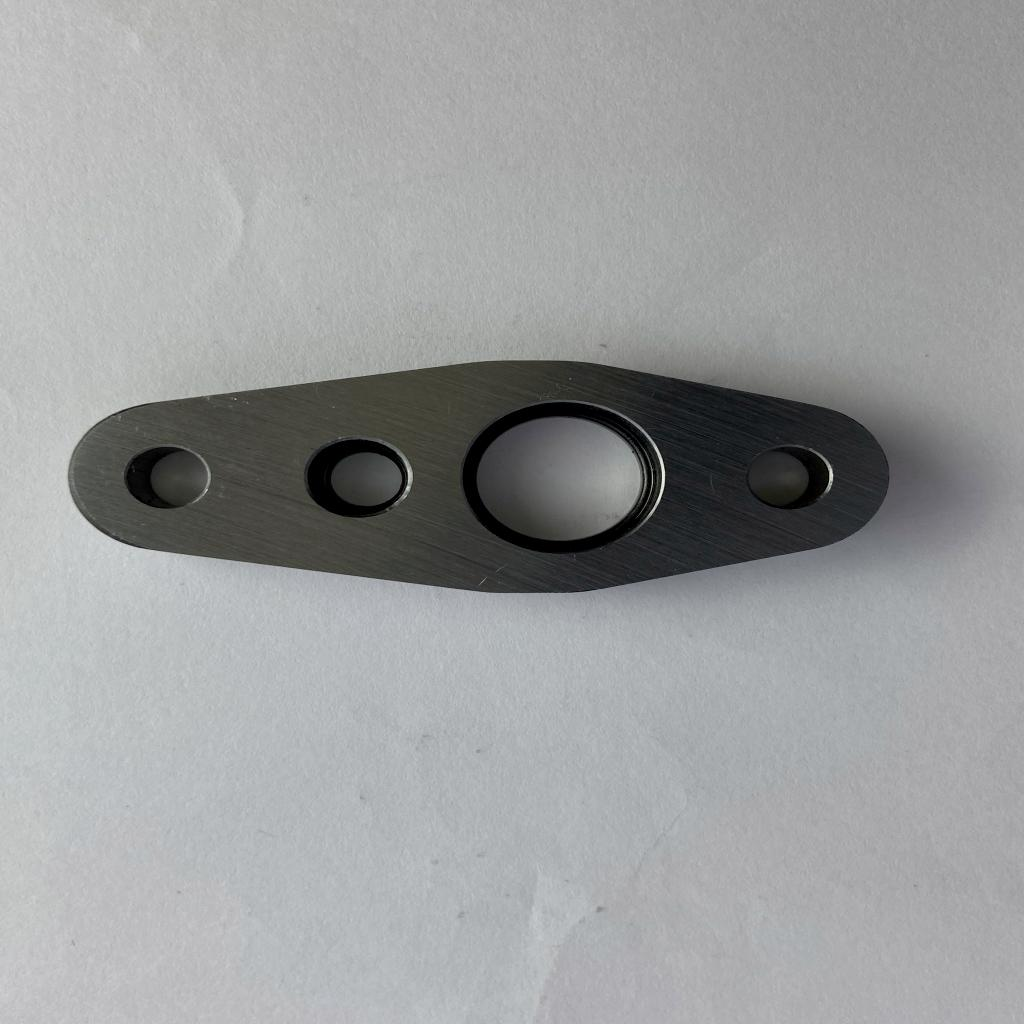chap: (226, 395, 252, 410)
lines: (474, 560, 512, 588)
